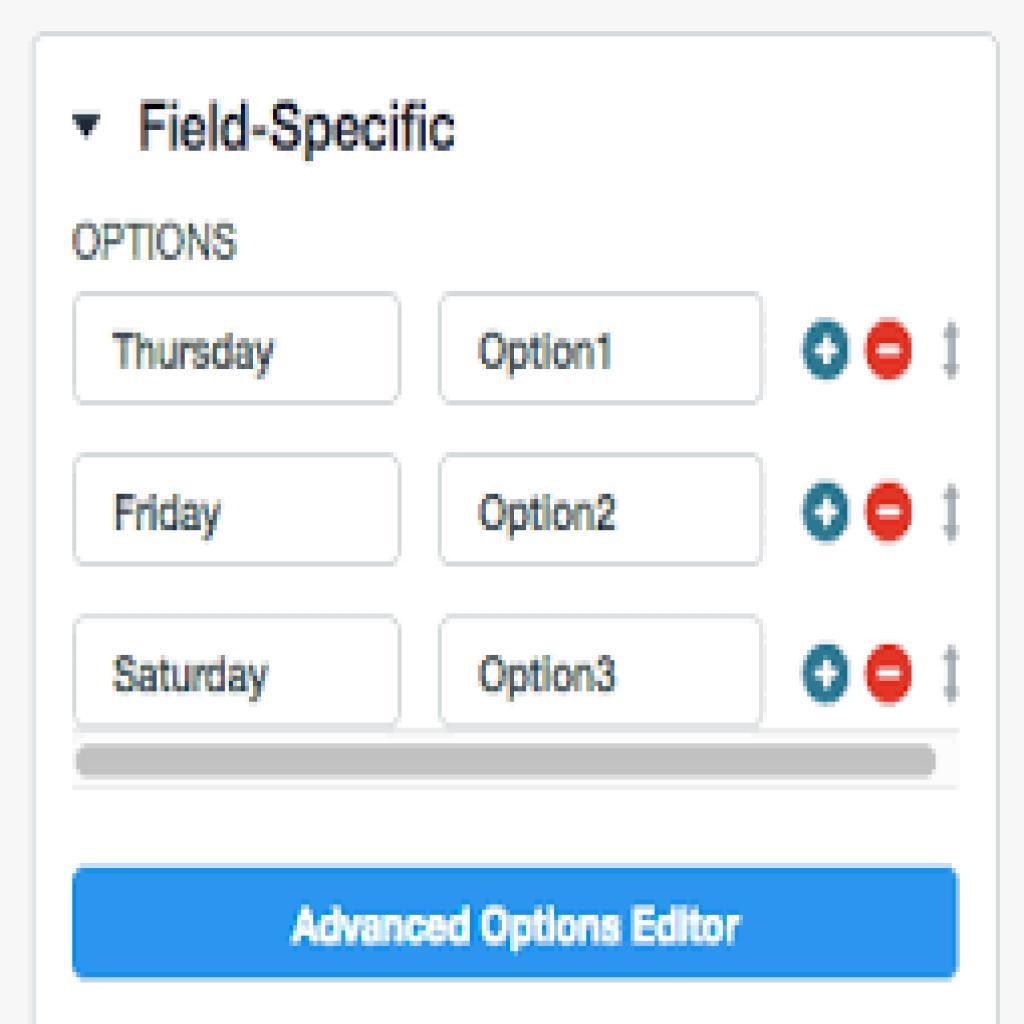button: (73, 868, 961, 982)
icon: (799, 477, 852, 548), (863, 641, 916, 711), (865, 317, 917, 385), (802, 319, 851, 386), (865, 483, 915, 546), (804, 645, 850, 703), (942, 483, 970, 552), (940, 319, 968, 385), (944, 639, 965, 713)
input: (75, 616, 402, 731), (439, 615, 768, 728), (440, 293, 766, 407), (440, 453, 766, 566), (74, 293, 403, 404), (72, 456, 402, 565)
